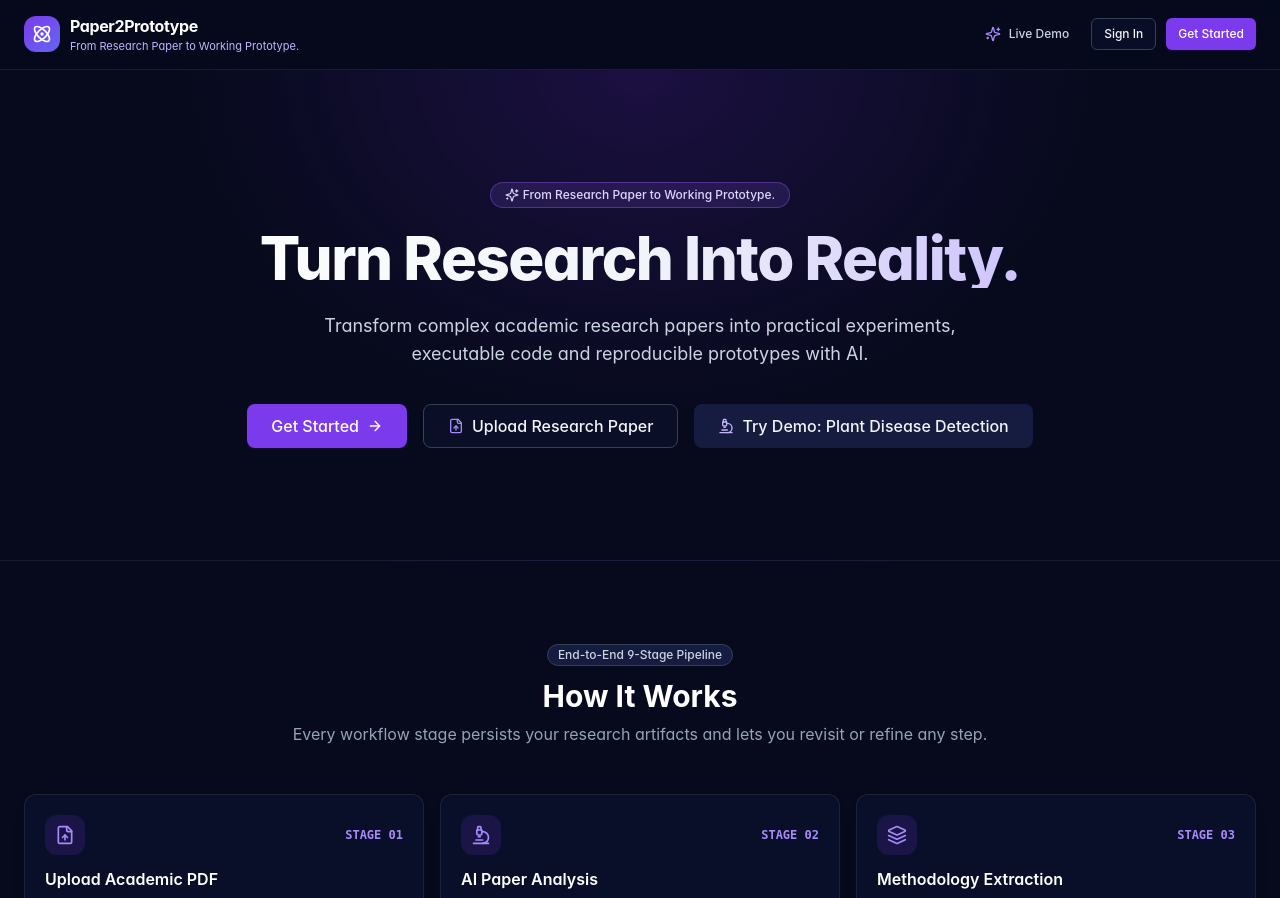
Paper2Prototype End-to-End UI Workflow › allows switching to an ungenerated blueprint level without snapping back
Click the button "Try Demo: Plant Disease Detection".
click(864, 426)  # box [694,404,1033,448]
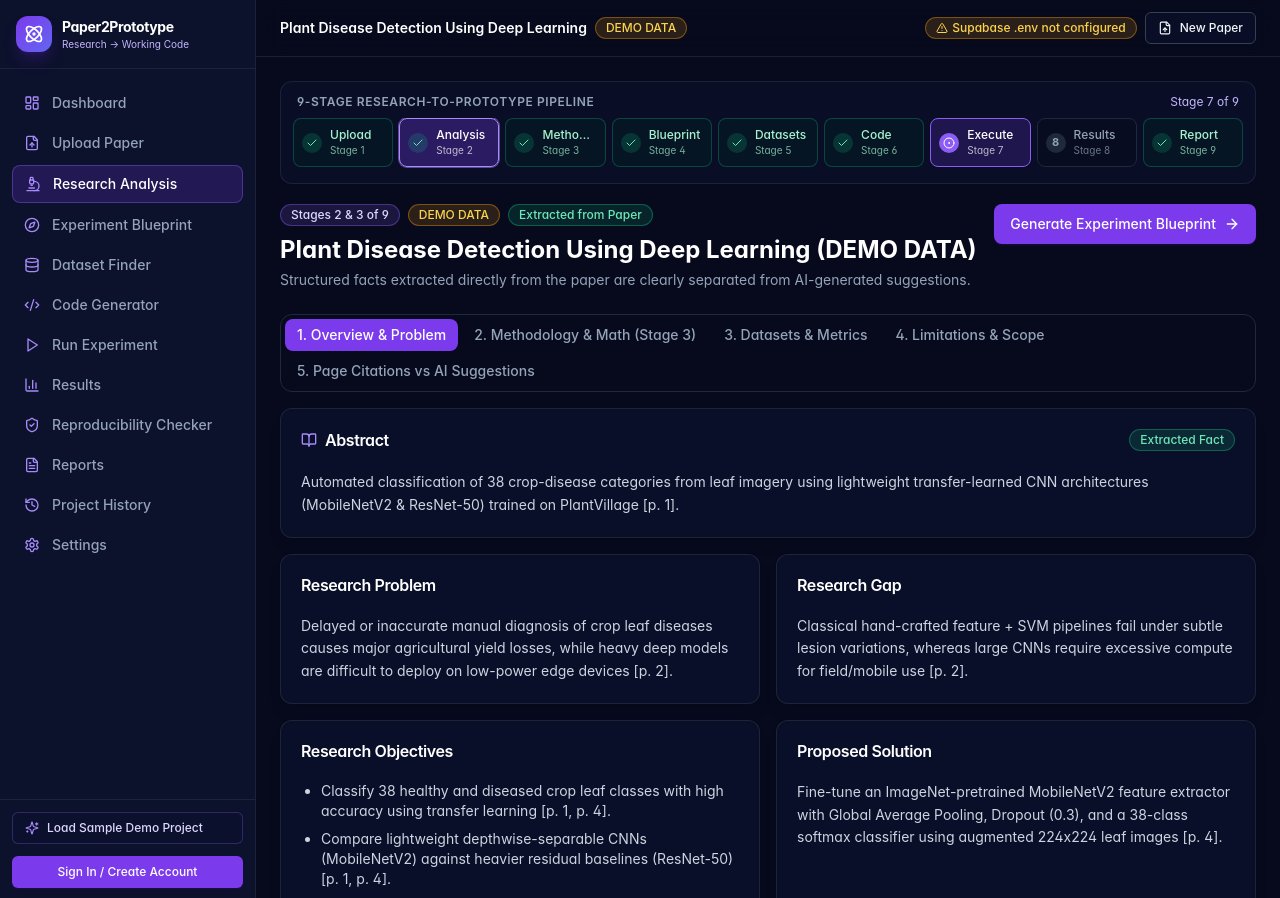
Expected: the heading "Plant Disease Detection Using Deep Learning (DEMO DATA)" is shown, [280,234,977,266]
Click the link "Experiment Blueprint".
click(108, 224)  # box [24,216,192,233]
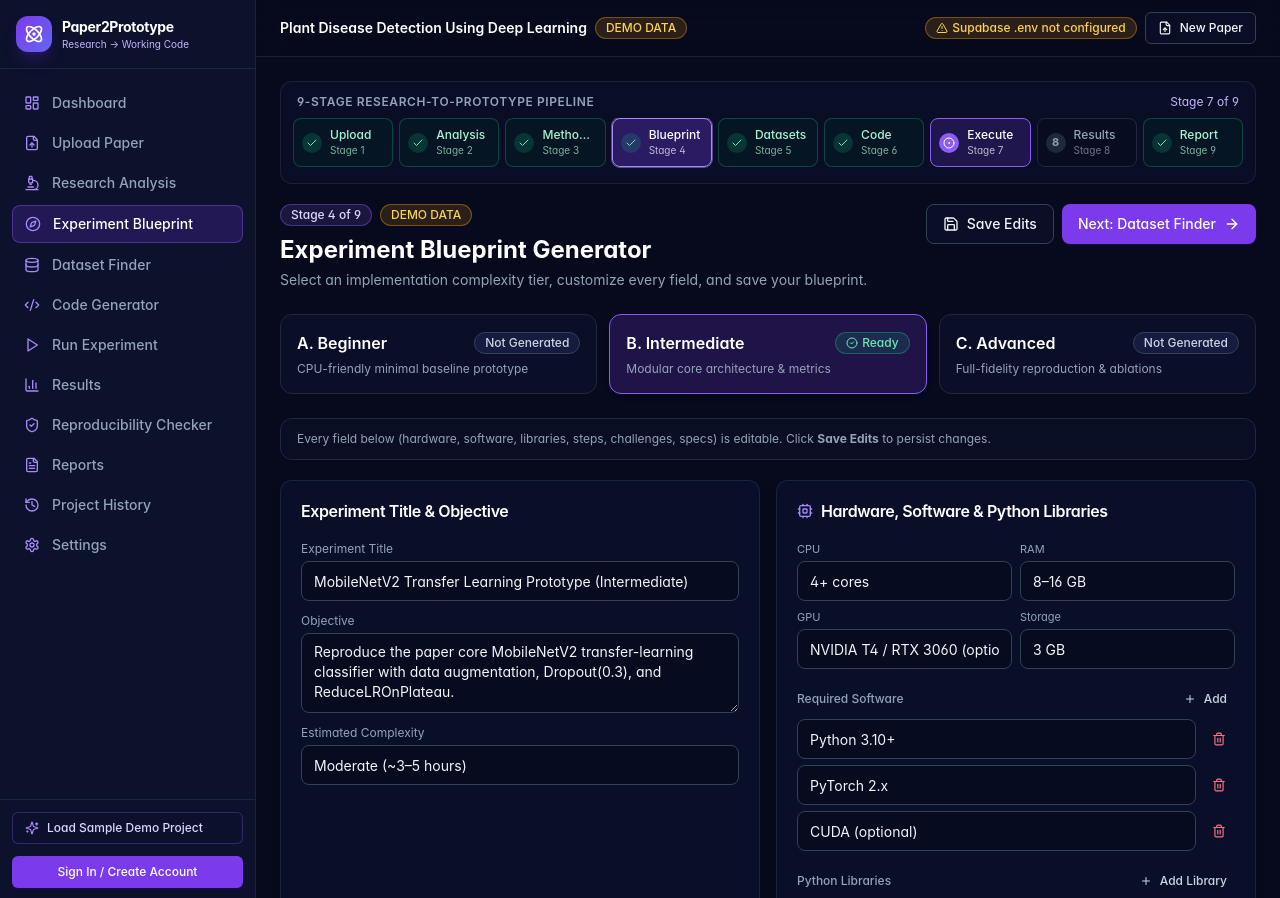
Expected: the 1st field showing "MobileNetV2 Transfer Learning Prototype" is shown, [301,561,739,601]
Click the button "A. Beginner".
click(342, 343)  # box [280,314,597,394]
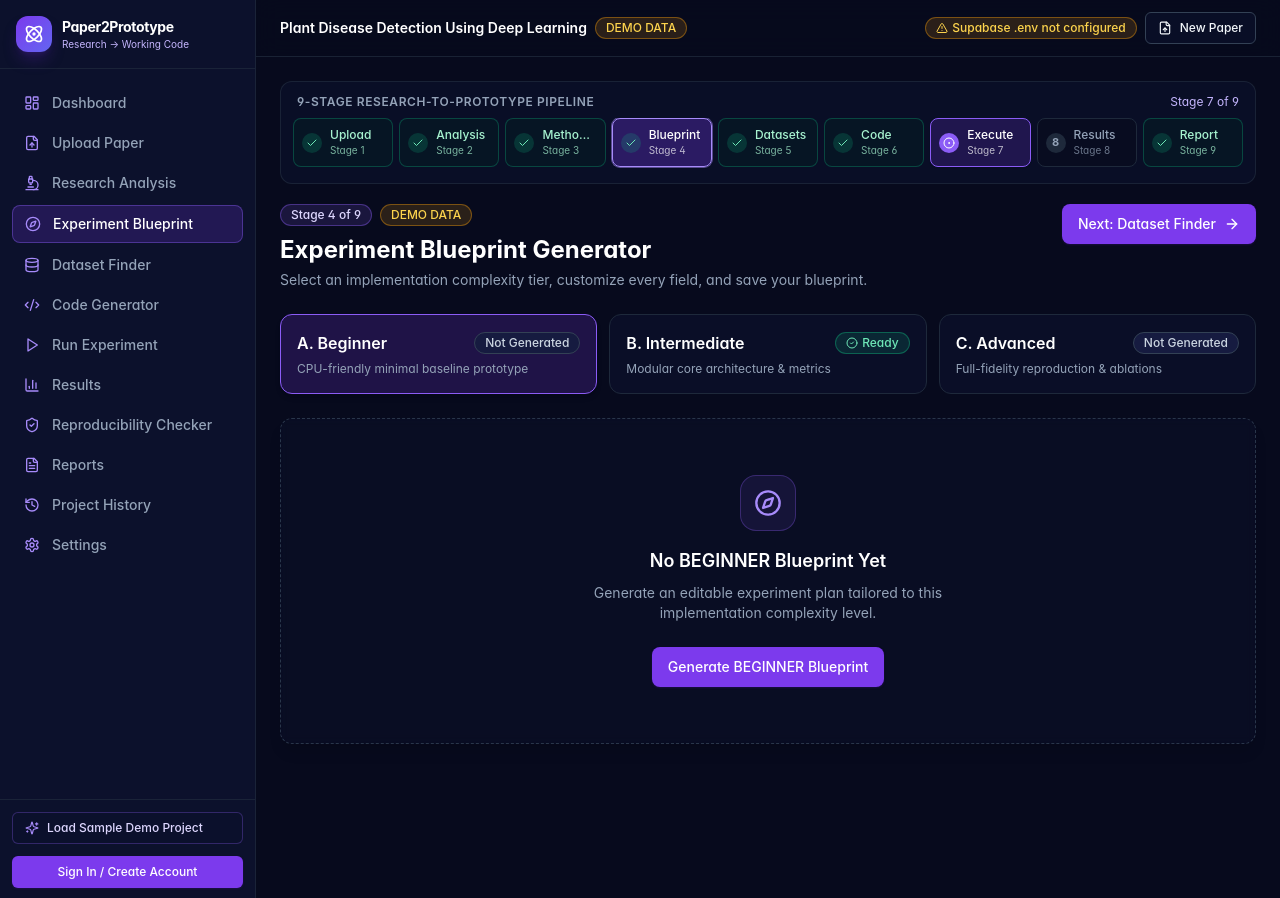
Expected: the heading "No BEGINNER Blueprint Yet" is shown, [650,547,886,575]
